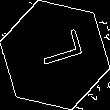L_W: (27, 33, 83, 77)
